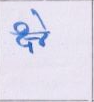e_matra: (28, 8, 50, 31)
